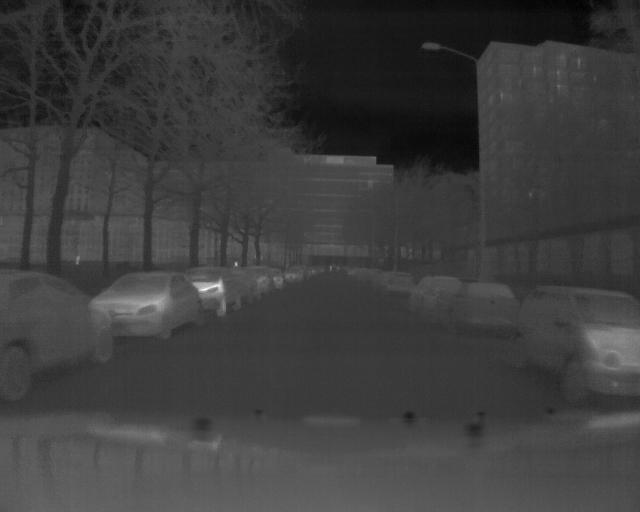car: (505, 285, 637, 398), (6, 253, 103, 401), (106, 267, 209, 322), (455, 278, 507, 329), (225, 261, 262, 316), (412, 267, 454, 312), (379, 266, 410, 300), (279, 262, 305, 290)
